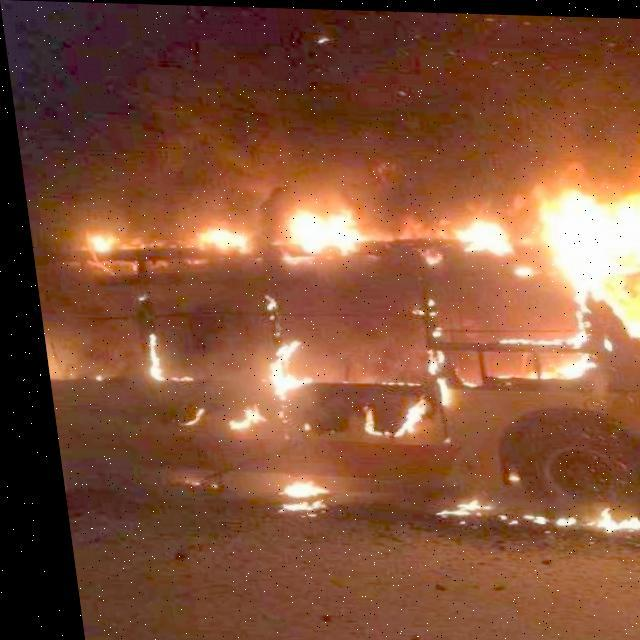Fire: (514, 183, 639, 348), (422, 487, 639, 539), (271, 198, 384, 264), (428, 202, 512, 262), (408, 292, 446, 406), (343, 389, 422, 440), (174, 218, 248, 262), (254, 334, 300, 398), (128, 333, 176, 385), (262, 474, 314, 515), (210, 402, 264, 436), (77, 228, 125, 262)
